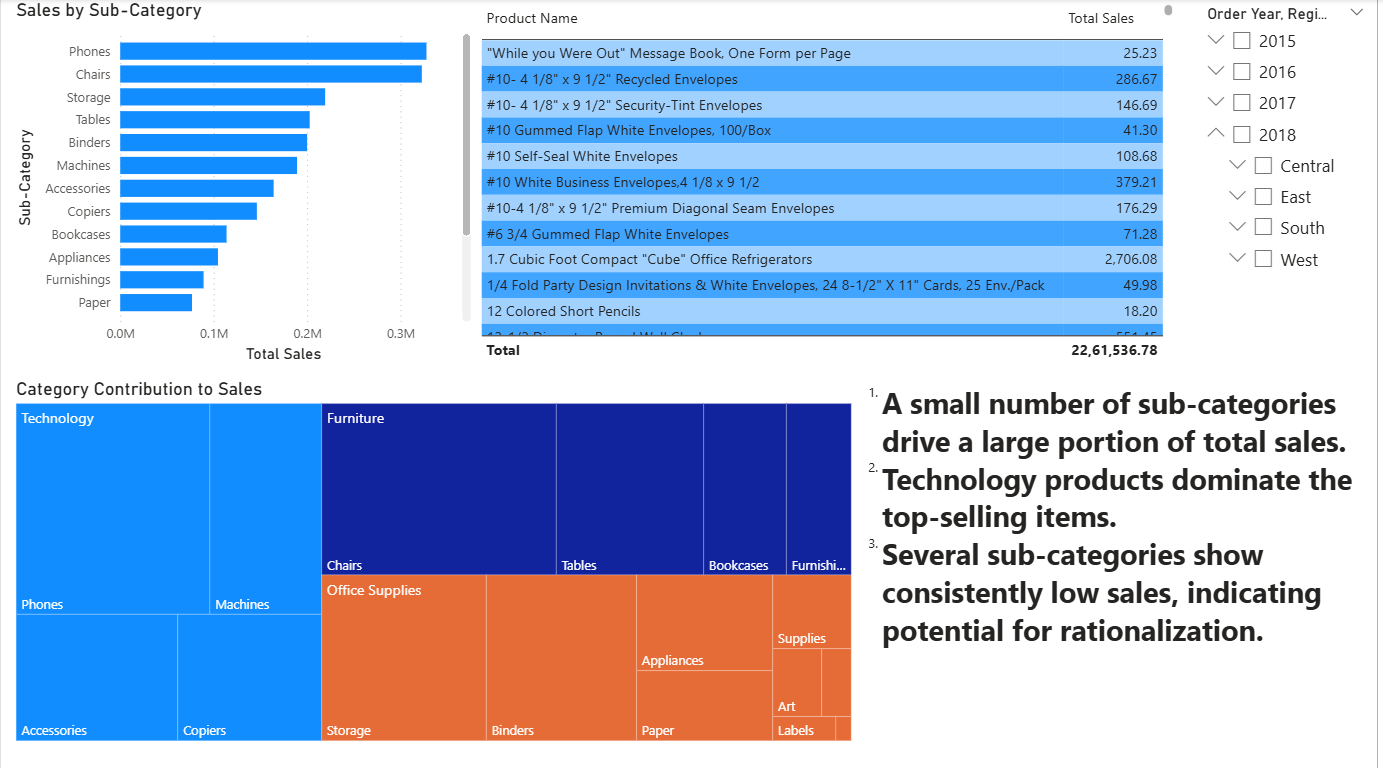

What the dashboard file says about the page in this screenshot:
{"tool":"powerbi","page":{"name":"Product Analysis","canvas":[1280,720],"ordinal":1},"visuals":[{"type":"barChart","title":" Sales by Sub-Category","fields":{"Category":["train.Sub-Category"],"Y":["train.Total Sales"]},"box":[9.3,0,433,343],"z":0},{"type":"treemap","title":"Category Contribution to Sales","fields":{"Group":["train.Category"],"Details":["train.Sub-Category"],"Values":["train.Total Sales"]},"box":[9.3,352.3,786.8,343],"z":1},{"type":"tableEx","fields":{"Values":["train.Product Name","train.Total Sales"]},"box":[440.7,0,654.9,343],"z":2},{"type":"textbox","box":[796.1,352.3,484.2,343],"z":3},{"type":"slicer","fields":{"Values":["train.Order Year","train.Region","train.Category"]},"box":[1109.6,0,170.7,271.6],"z":4}]}

Visuals, with their boxes in screenshot pixels (x1, y1, x2, y2), scaled from the page's 1280x720 canvas onto the 1383x768 screenshot:
" Sales by Sub-Category" barChart: {"x1": 10, "y1": 0, "x2": 478, "y2": 366}
"Category Contribution to Sales" treemap: {"x1": 10, "y1": 376, "x2": 860, "y2": 742}
tableEx - train.Product Name x train.Total Sales: {"x1": 476, "y1": 0, "x2": 1184, "y2": 366}
textbox: {"x1": 860, "y1": 376, "x2": 1382, "y2": 742}
slicer - train.Order Year x train.Region: {"x1": 1199, "y1": 0, "x2": 1382, "y2": 290}
